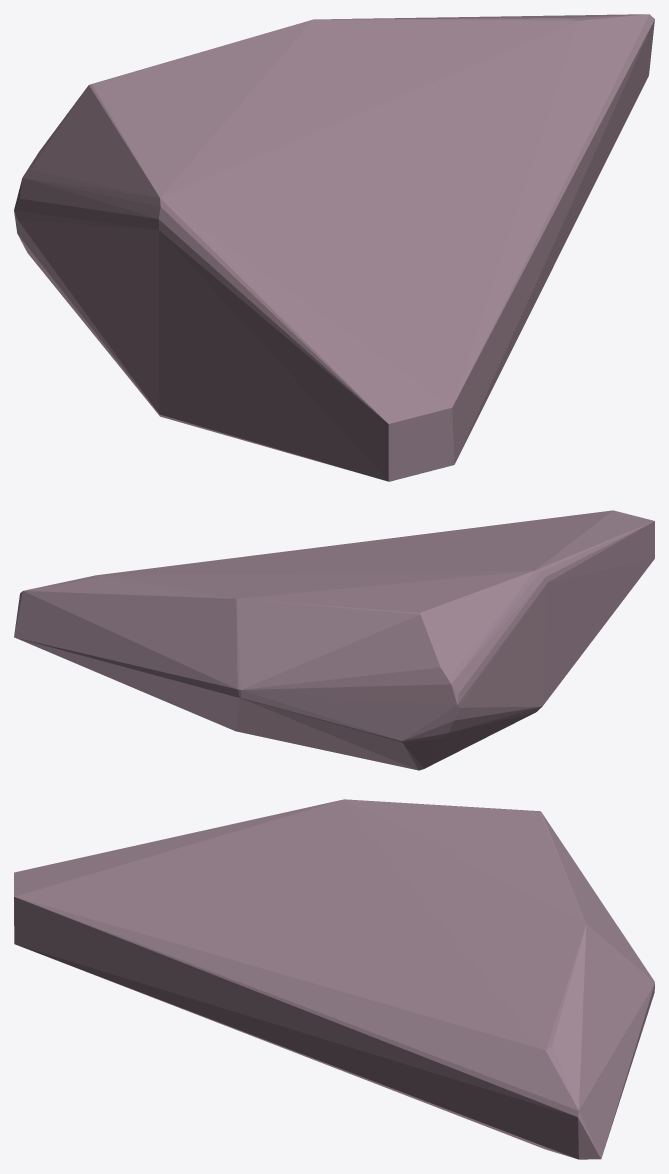
File: vehicleSupport_frame_straightening_crane_a01.glb
3 renders of one model, top to bottom at view 1: azimuth 30°, elevation 25°; view 2: azimuth 150°, elevation 25°; view 3: azimuth 270°, elevation 25°, orthographic. The views are drawn at different scales.
Parts seen in each view (by area): view 1: geometry_0; view 2: geometry_0; view 3: geometry_0.
Part boxes in pixels (x1,y1,x2,y2): geometry_0: [14, 14, 654, 481]; geometry_0: [14, 510, 654, 770]; geometry_0: [14, 799, 654, 1159].
Size of the model in its own units: 0.4532 by 0.1589 by 0.48.
